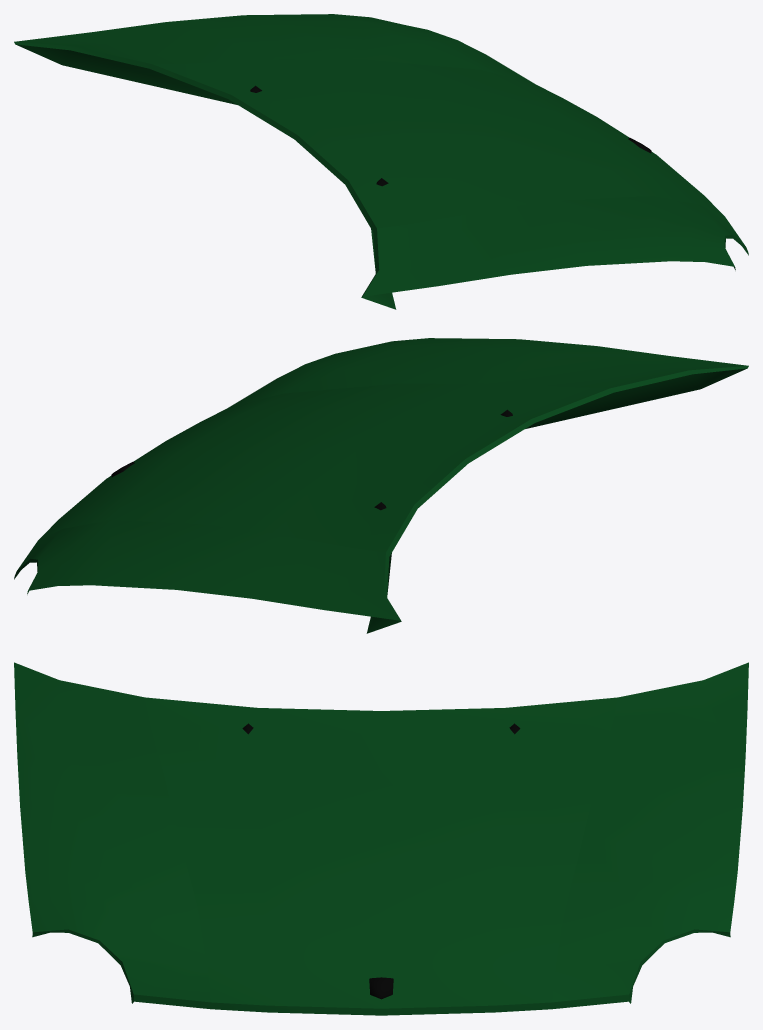
File: hood.fbx
The picture shows the model from 3 angles, top to bottom: view 1: azimuth 30°, elevation 25°; view 2: azimuth 150°, elevation 25°; view 3: azimuth 270°, elevation 25°; orthographic projection. The views are drawn at different scales.
Visible parts, largest first — view 1: KIT00_HOOD_A; view 2: KIT00_HOOD_A; view 3: KIT00_HOOD_A.
Boxes of the visible parts, left/top/right/bottom form: KIT00_HOOD_A: left=14, top=14, right=748, bottom=309; KIT00_HOOD_A: left=14, top=338, right=748, bottom=633; KIT00_HOOD_A: left=14, top=662, right=748, bottom=1015.
Size of the model in its own units: 107 by 25 by 137.
